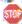Stop sign: (0, 1, 21, 23)
